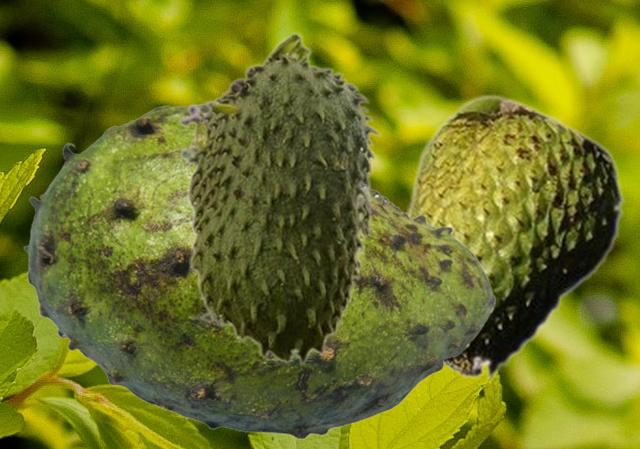guyabano: (23, 101, 495, 439), (179, 30, 381, 364), (402, 93, 624, 382)
